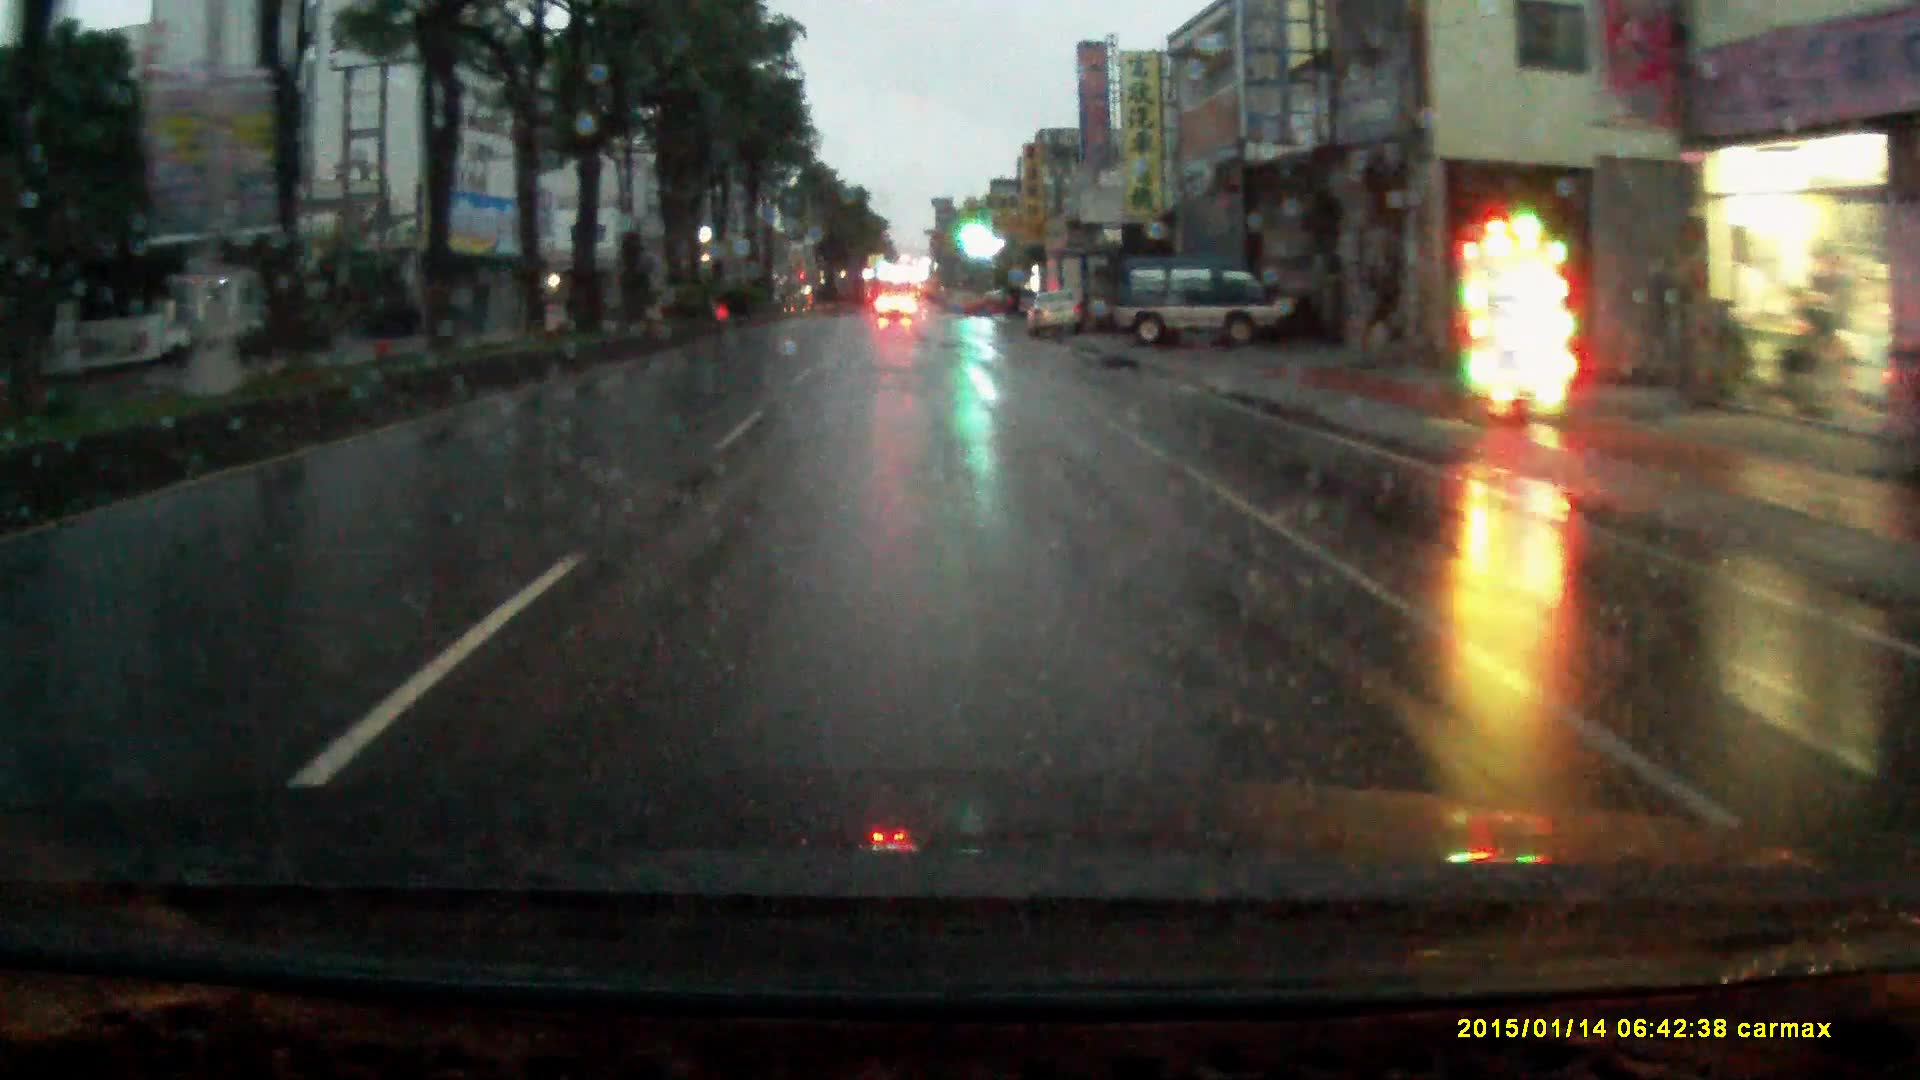vehicle: (1106, 260, 1298, 353), (1042, 248, 1114, 335), (1027, 293, 1087, 342), (876, 295, 916, 324)
